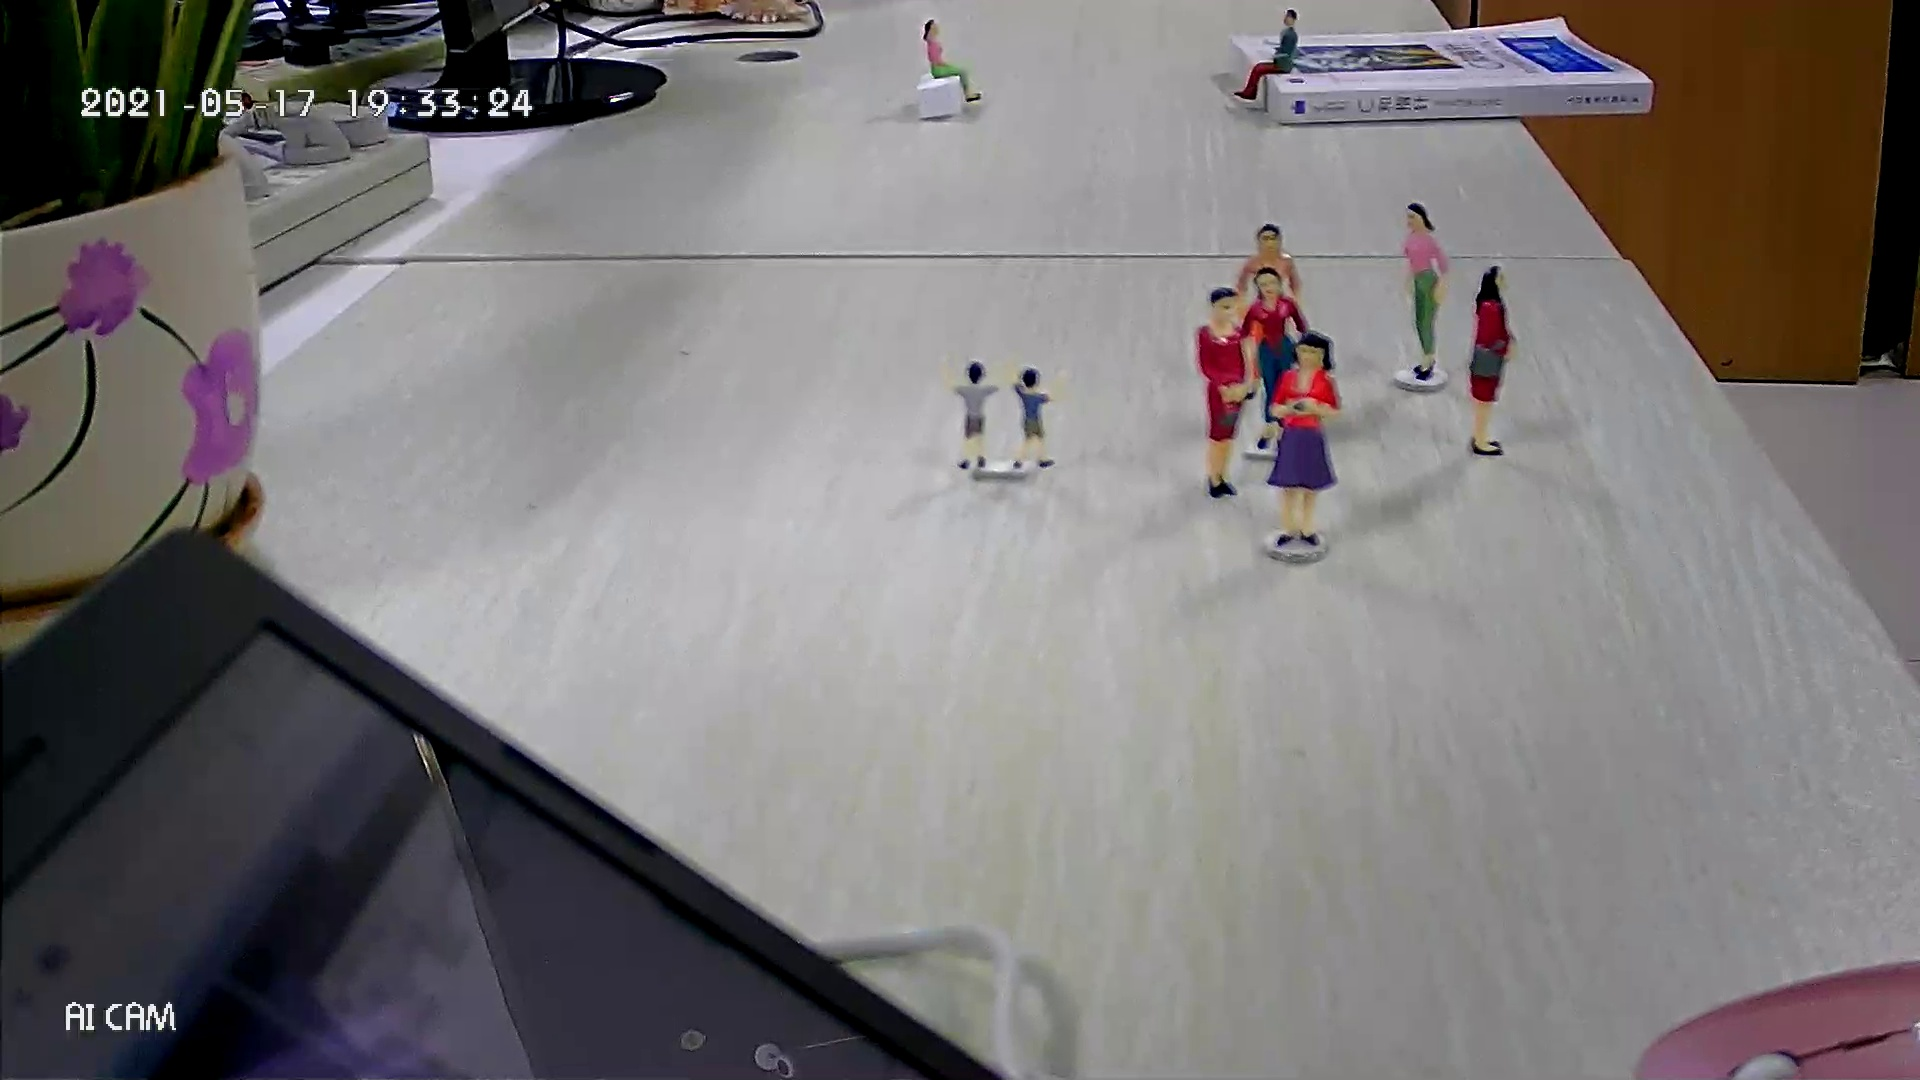person: (1267, 329, 1343, 548), (1236, 222, 1305, 404), (1195, 284, 1252, 499), (1241, 265, 1307, 449), (1468, 263, 1519, 458), (934, 346, 1010, 471), (1400, 200, 1450, 381), (1004, 359, 1067, 471), (1232, 6, 1302, 102), (919, 13, 984, 102)
